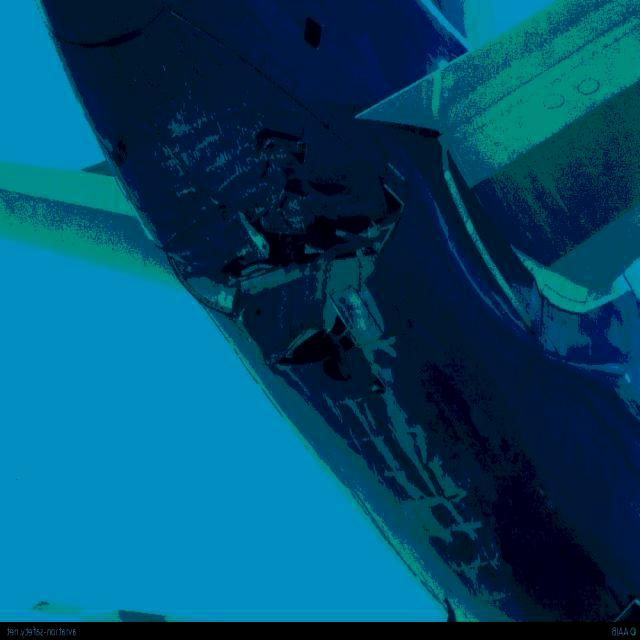crack: (217, 175, 405, 281)
